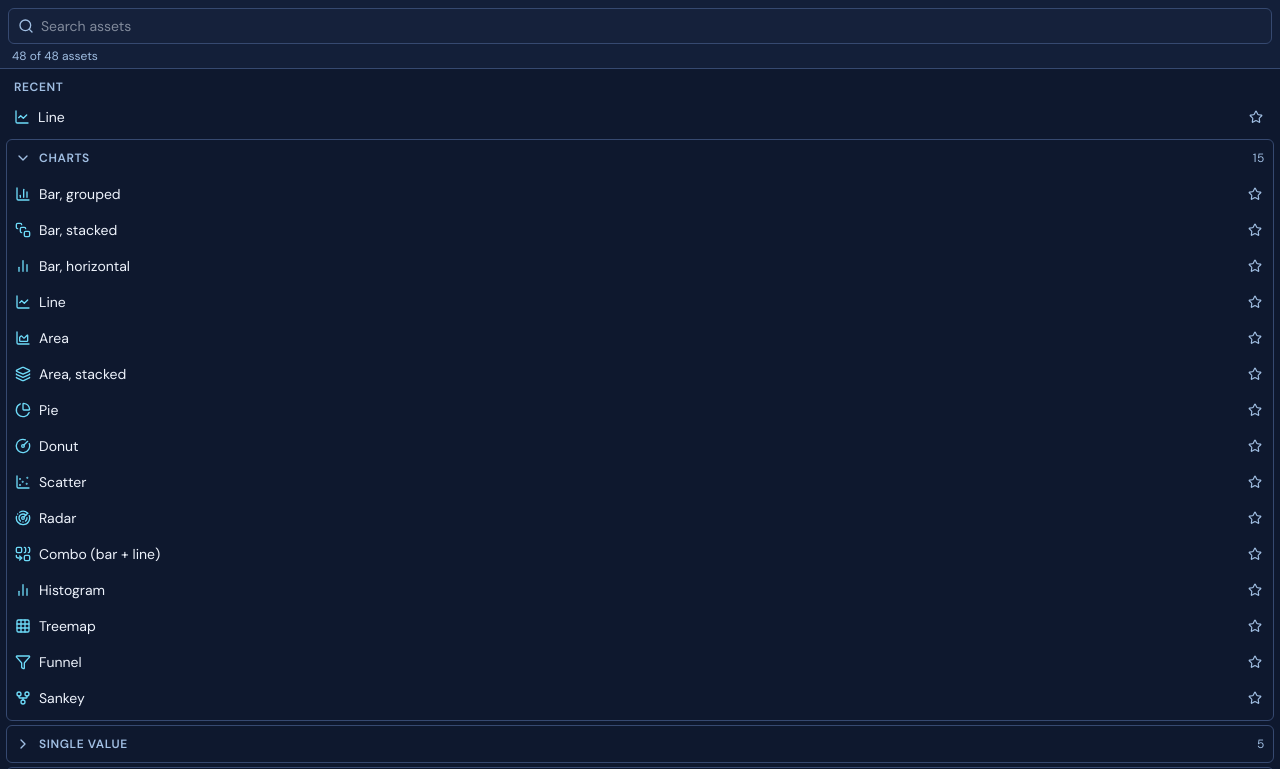
Scenario: AssetBar › searches by name and category, and never hides when nothing matches
This screenshot has width=1280, height=769.
Type "heatmap" into the search field with placeholder "Search assets" at x=640, y=26, box [8,8,1272,44]
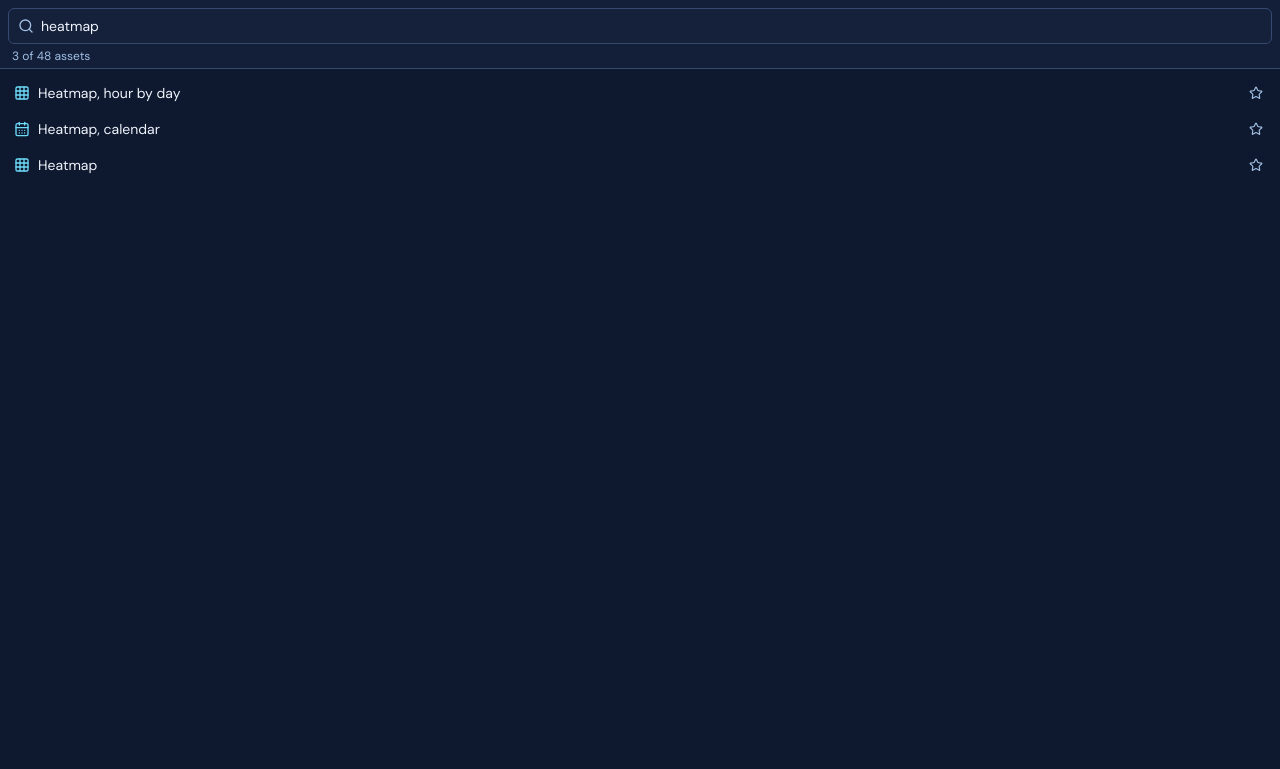
Result: the text "Heatmap, hour by day" is shown at [38,84,180,102]
Result: the list named "Search results" is shown at [6,75,1274,183]
Replace the text in the search field with placeholder "Search assets" with "zzzz" at x=640, y=26, box [8,8,1272,44]
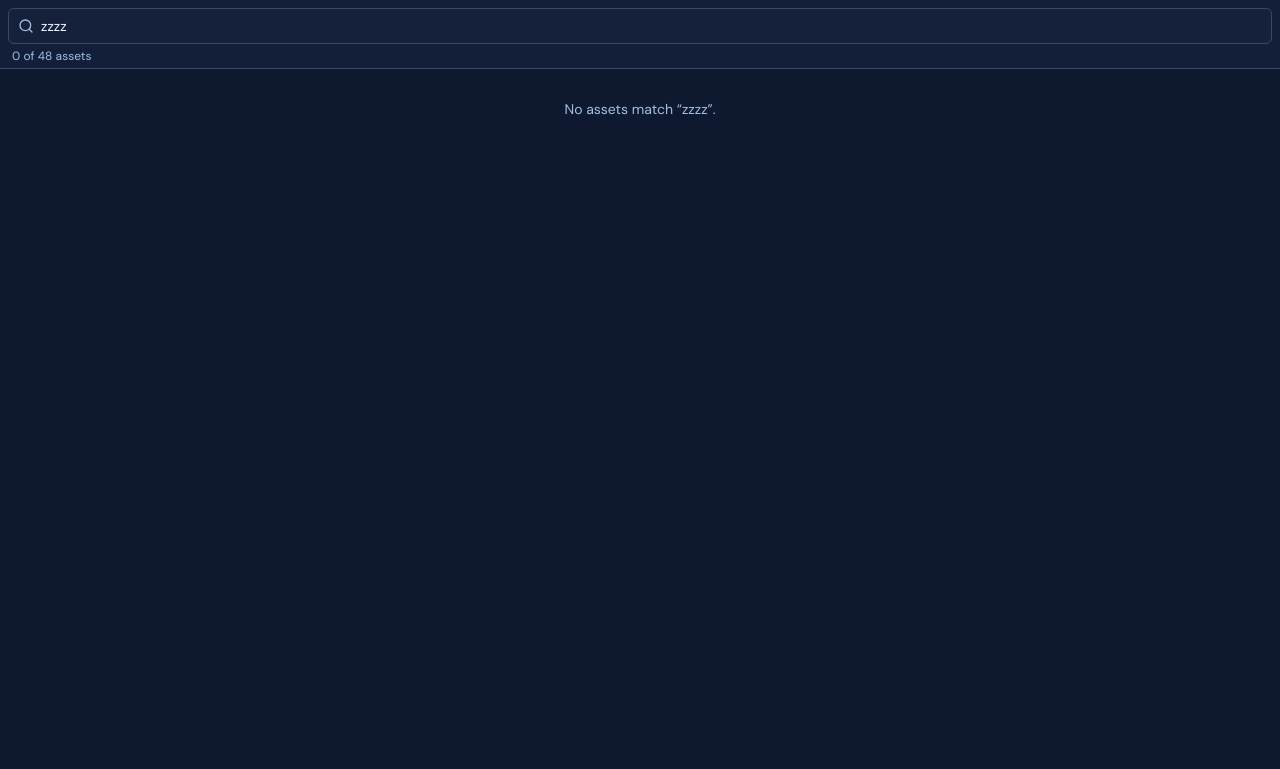
Result: the text "No assets match “zzzz”." is shown at [564,100,716,118]
